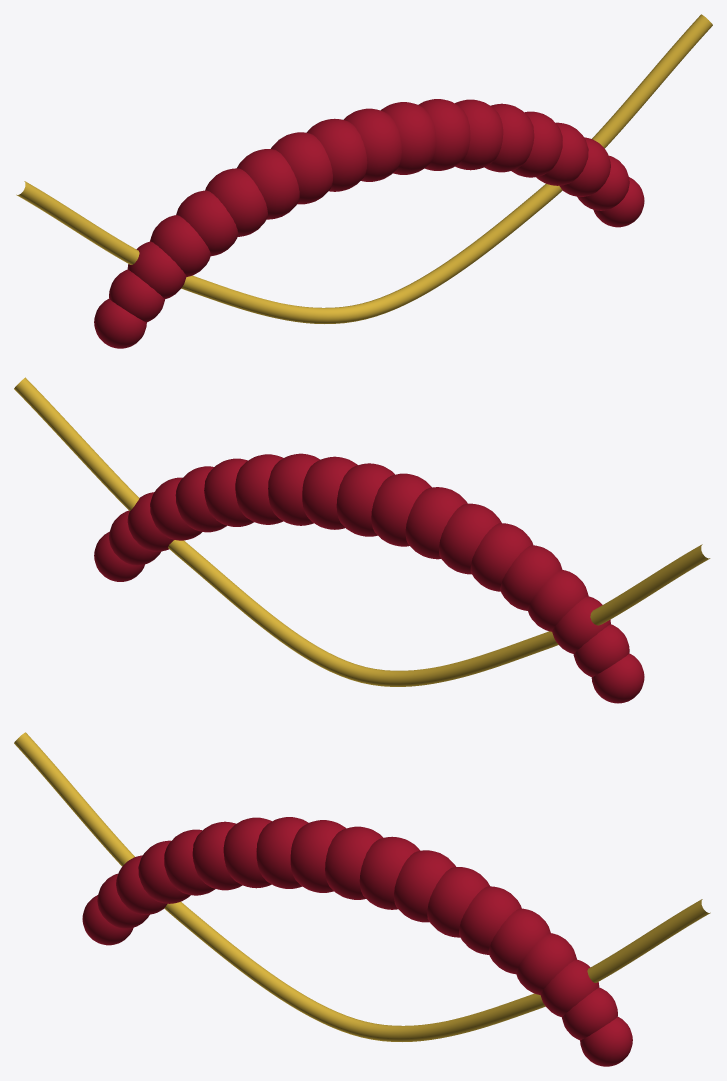
The model's file is ruhani-bridal-nath.glb.
The picture shows the model from 3 angles, top to bottom: view 1: azimuth 30°, elevation 25°; view 2: azimuth 150°, elevation 25°; view 3: azimuth 330°, elevation 25°; orthographic projection.
Parts seen in each view (by area): view 1: pearl (×19), chain; view 2: pearl (×19), chain; view 3: pearl (×19), chain.
Part boxes in pixels (box(x1,y1,x2,y2)): pearl (×19): box(94, 99, 644, 348); chain: box(16, 14, 712, 323); pearl (×19): box(94, 453, 644, 703); chain: box(14, 377, 710, 686); pearl (×19): box(82, 817, 632, 1066); chain: box(14, 732, 710, 1041).
Bounding box in the file's own units: 2.73 × 0.8302 × 0.25.
